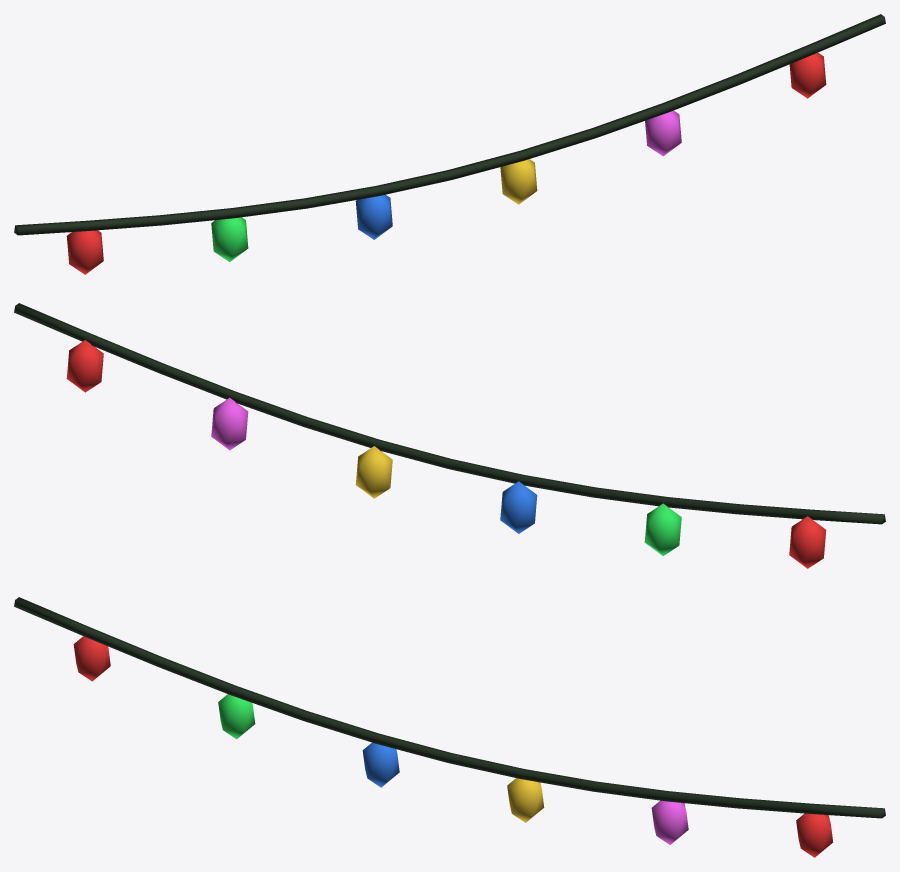
The model's file is festive_lights_v0.glb.
3 views of the same model, one above another, from view 1: azimuth 30°, elevation 25°; view 2: azimuth 150°, elevation 25°; view 3: azimuth 330°, elevation 25° (orthographic).
Parts seen in each view (by area): view 1: festive_lights_v0; view 2: festive_lights_v0; view 3: festive_lights_v0.
Part boxes in pixels (x1,y1,x2,y2): festive_lights_v0: [14, 14, 885, 274]; festive_lights_v0: [14, 303, 885, 568]; festive_lights_v0: [14, 597, 885, 857].
Size of the model in its own units: 1.44 by 0.1649 by 0.051.
